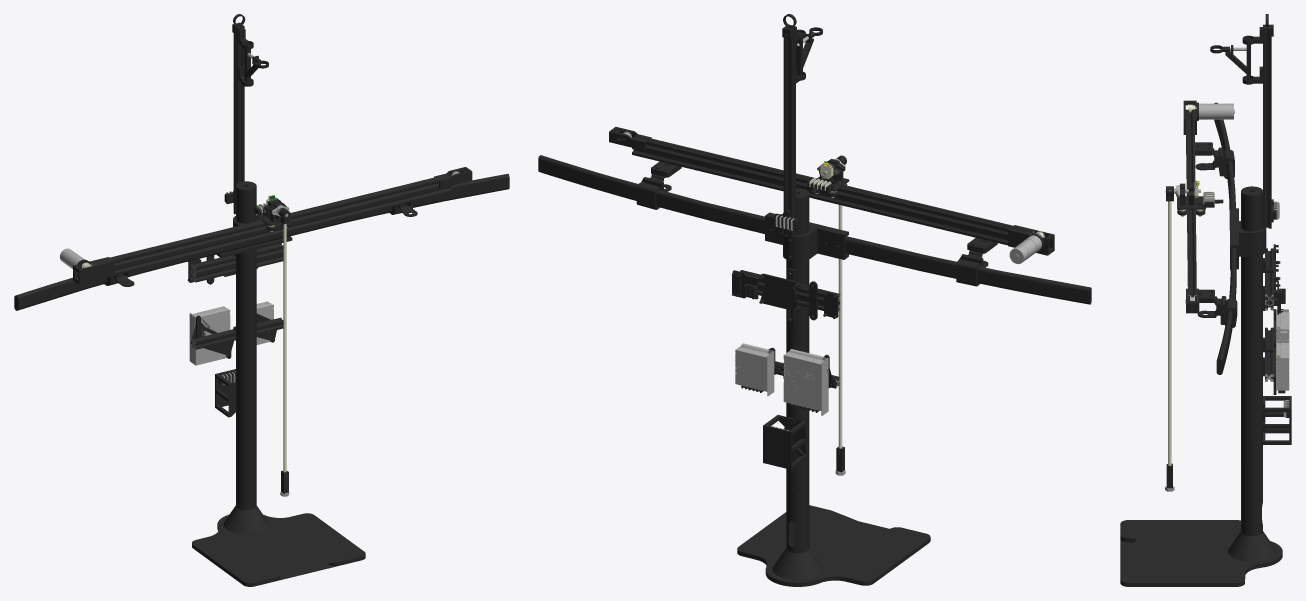
File: inverted_pendulum.fbx
The picture shows the model from 3 angles, left to right: view 1: azimuth 30°, elevation 25°; view 2: azimuth 150°, elevation 25°; view 3: azimuth 270°, elevation 25°; orthographic projection. The views are drawn at different scales.
Visible parts, largest first — view 1: Base, Pendulum, Cart; view 2: Base, Pendulum, Cart; view 3: Base, Pendulum, Cart.
Boxes of the visible parts, x1=… form: Base: x1=14, y1=14, x2=509, y2=586; Pendulum: x1=279, y1=208, x2=290, y2=496; Cart: x1=254, y1=195, x2=292, y2=231; Base: x1=538, y1=14, x2=1091, y2=586; Pendulum: x1=835, y1=155, x2=846, y2=475; Cart: x1=806, y1=158, x2=849, y2=198; Base: x1=1120, y1=14, x2=1291, y2=586; Pendulum: x1=1165, y1=186, x2=1174, y2=491; Cart: x1=1165, y1=180, x2=1223, y2=216.
Size of the model in its own units: 138 by 136 by 39.
